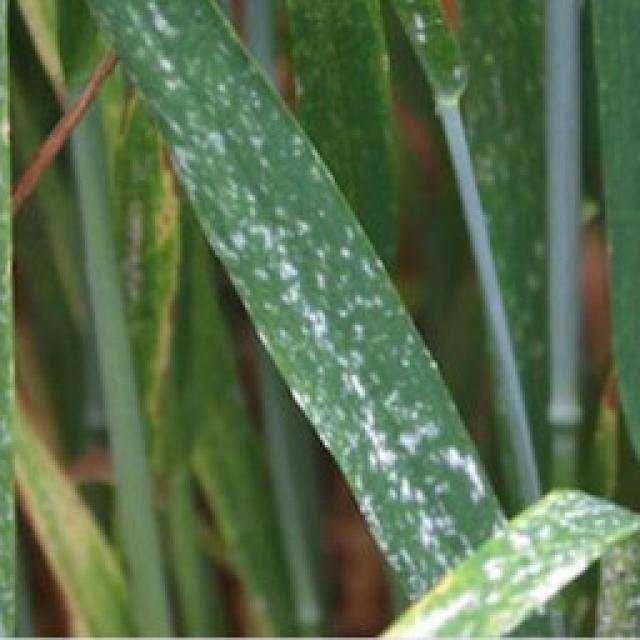wheat-powdery-mildew: (82, 0, 510, 608)
